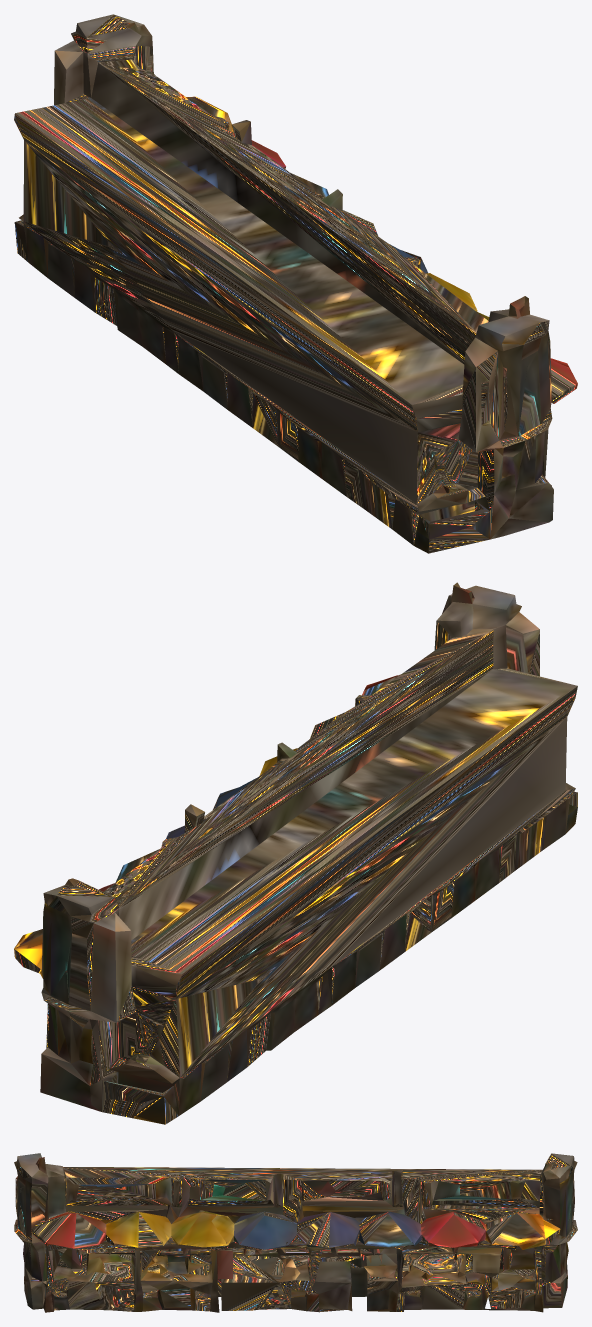
File: s03_far.glb
3 renders of one model, top to bottom at view 1: azimuth 30°, elevation 25°; view 2: azimuth 150°, elevation 25°; view 3: azimuth 270°, elevation 25°, orthographic. The views are drawn at different scales.
Parts seen in each view (by area): view 1: s03_far; view 2: s03_far; view 3: s03_far.
Part boxes in pixels (bbox=[...]): s03_far: bbox=[14, 14, 577, 553]; s03_far: bbox=[14, 582, 577, 1124]; s03_far: bbox=[14, 1153, 577, 1312].
Bounding box in the file's own units: 3.5 × 4 × 14.08.
1 material, 1 textured.
